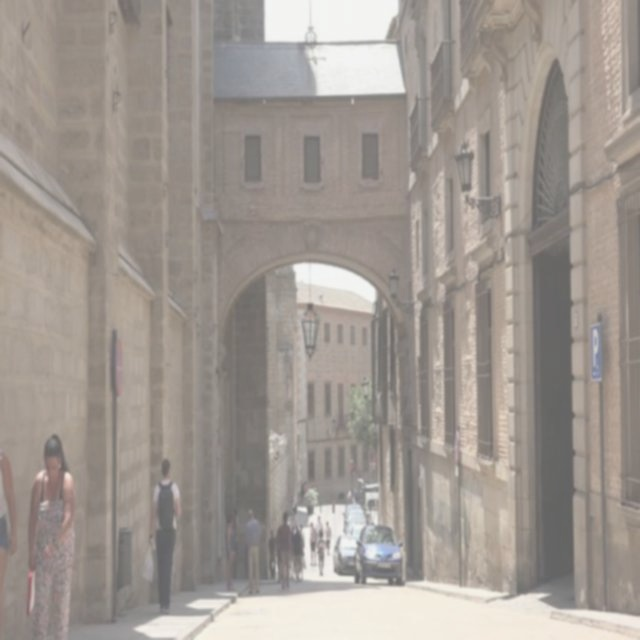pessoa: (23, 426, 79, 638), (148, 457, 183, 616), (0, 440, 18, 635), (244, 505, 262, 596), (277, 509, 292, 591), (222, 507, 236, 592), (292, 522, 304, 586), (266, 525, 278, 583), (314, 528, 327, 579), (296, 522, 306, 582), (308, 520, 318, 568), (322, 518, 334, 556), (346, 484, 363, 506), (289, 524, 295, 582), (314, 514, 324, 538), (299, 478, 306, 502), (292, 493, 298, 520), (302, 478, 308, 502), (356, 466, 364, 478), (288, 497, 292, 516)
